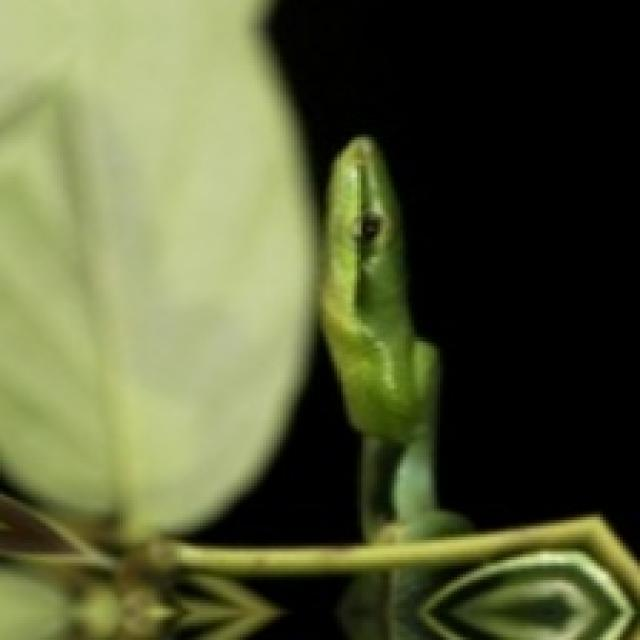red-tailed green ratsnake: (320, 137, 469, 540)
